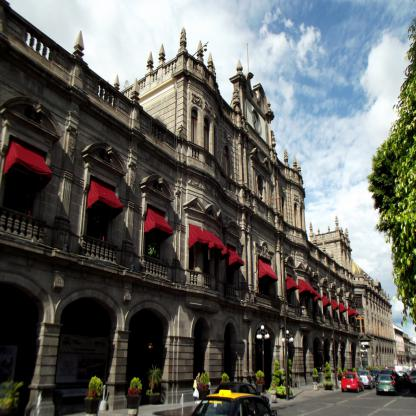Car: (189, 388, 272, 416), (340, 367, 416, 396), (211, 380, 262, 410)
